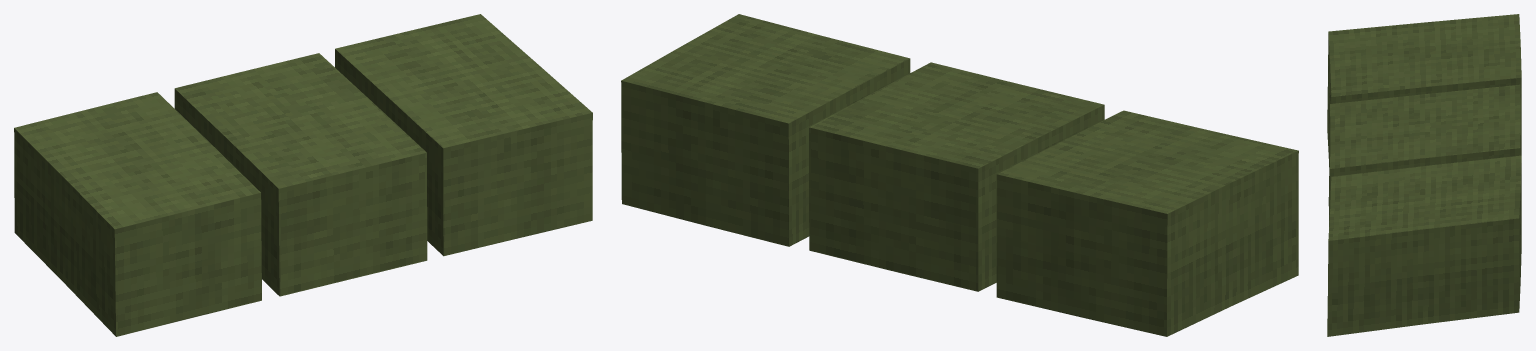
Rendered from pack_ammo.glb.
3 renders of one model, left to right at view 1: azimuth 30°, elevation 25°; view 2: azimuth 150°, elevation 25°; view 3: azimuth 270°, elevation 25°, orthographic. The views are drawn at different scales.
Parts seen in each view (by area): view 1: pack_worn_ammo; view 2: pack_worn_ammo; view 3: pack_worn_ammo.
Part boxes in pixels (x1,y1,x2,y2): pack_worn_ammo: (14, 14, 592, 336); pack_worn_ammo: (621, 14, 1298, 336); pack_worn_ammo: (1327, 14, 1521, 336).
Size of the model in its own units: 0.3025 by 0.0788 by 0.1187.
1 material, 1 textured.
